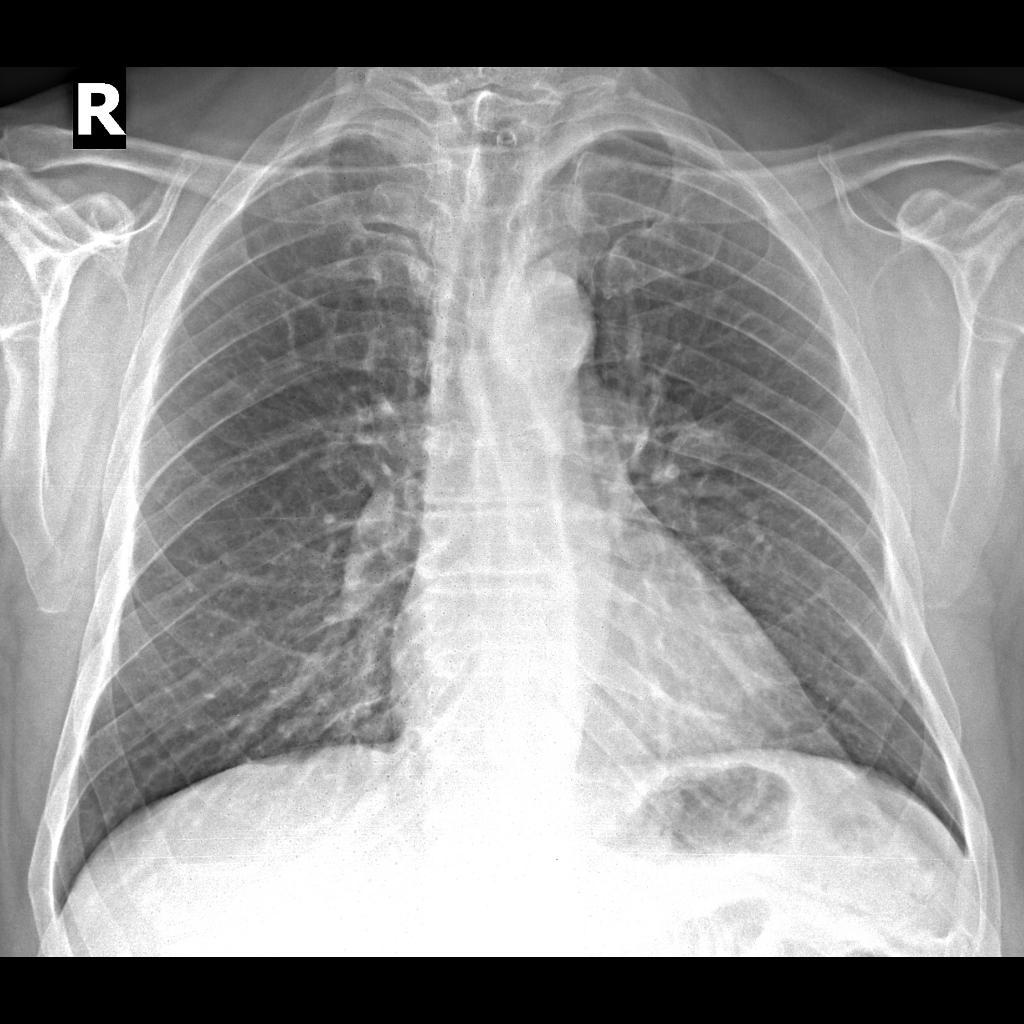Nodule: (664, 414, 745, 476)
